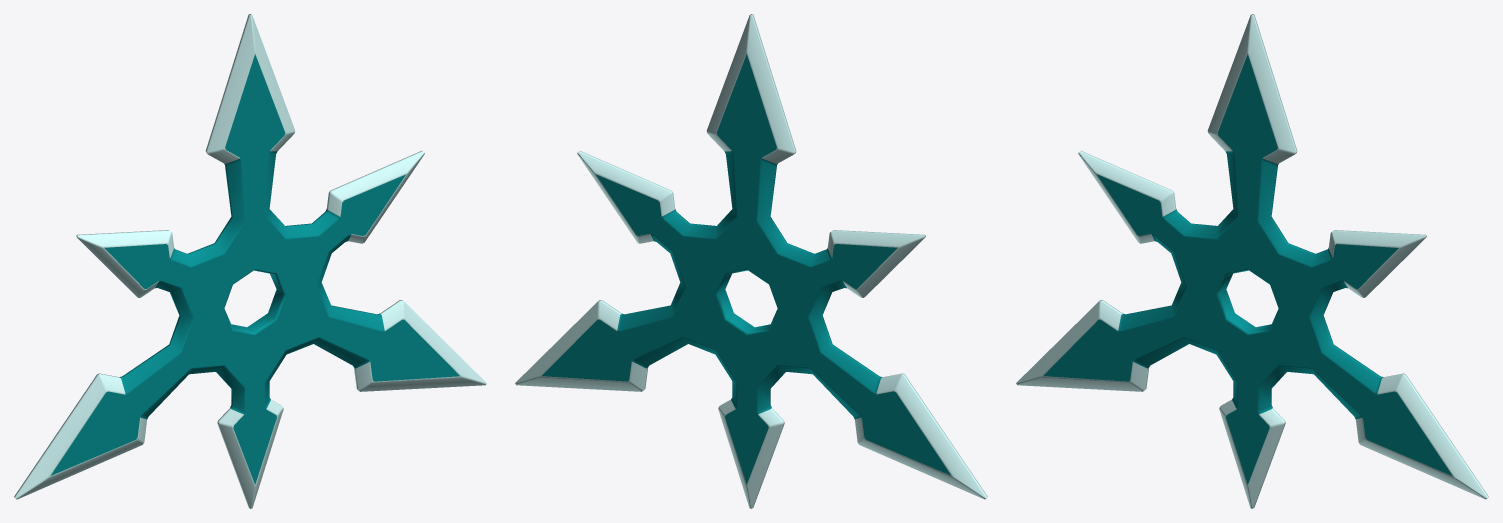
Rendered from shuriken_5.FBX.
3 renders of one model, left to right at view 1: azimuth 30°, elevation 25°; view 2: azimuth 150°, elevation 25°; view 3: azimuth 330°, elevation 25°, orthographic.
Visible parts, largest first — view 1: shuriken_5; view 2: shuriken_5; view 3: shuriken_5.
Boxes of the visible parts, box(x1,y1,x2,y2) form: shuriken_5: box(14, 14, 486, 508); shuriken_5: box(515, 14, 987, 508); shuriken_5: box(1016, 14, 1488, 508).
Size of the model in its own units: 607 by 607 by 20.92.
